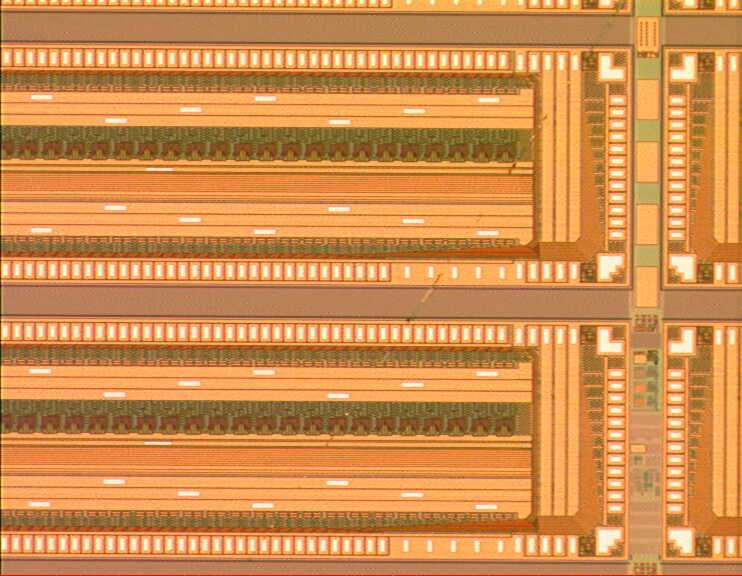SCRATCH: (239, 1, 640, 576)
